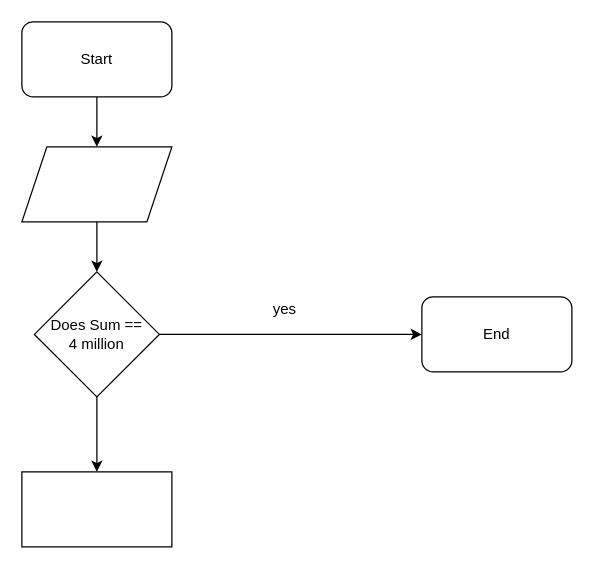
The diagram is 594 pixels wide and 569 high, and some of its shapes have lost their labels. Each missing label, with the centre of its shape:
"Add" goes at point (96, 509).
"Sum =" goes at point (96, 184).
